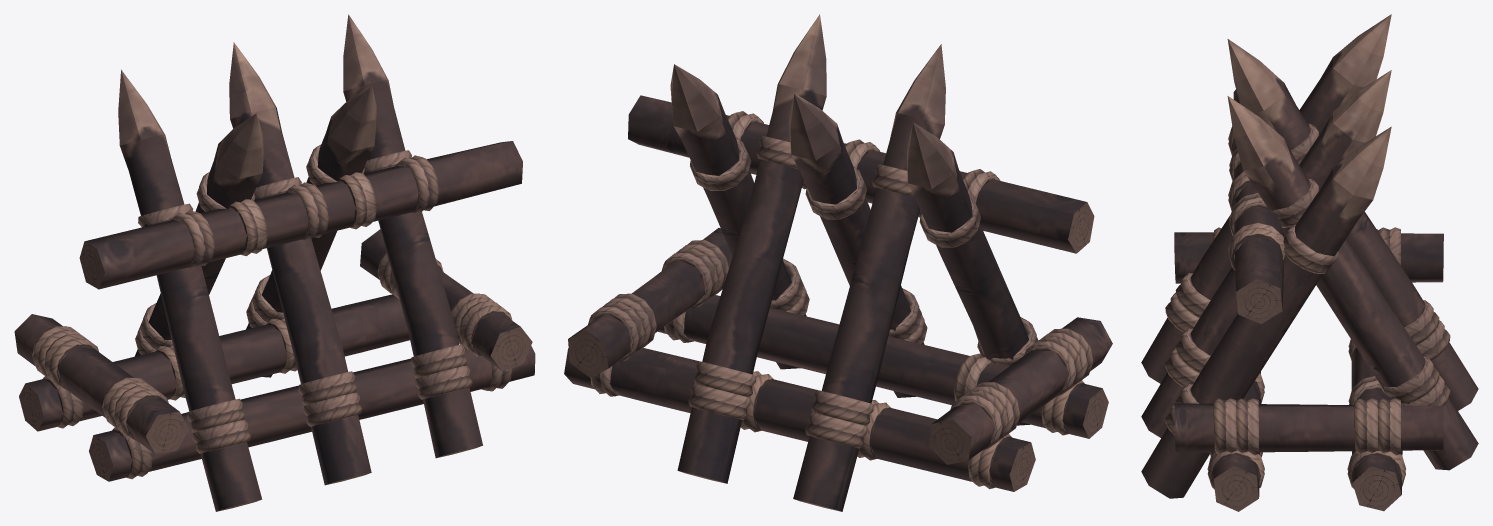
File: Barricade_small.FBX
The picture shows the model from 3 angles, left to right: view 1: azimuth 30°, elevation 25°; view 2: azimuth 150°, elevation 25°; view 3: azimuth 270°, elevation 25°; orthographic projection. The views are drawn at different scales.
Visible parts, largest first — view 1: Object028; view 2: Object028; view 3: Object028.
Boxes of the visible parts, box(x1,y1,x2,y2) form: Object028: box(14, 14, 535, 511); Object028: box(564, 14, 1112, 511); Object028: box(1141, 14, 1478, 511).
Bounding box in the file's own units: 2.21 × 1.83 × 1.5.
Materials: 1 (1 with a texture image).
